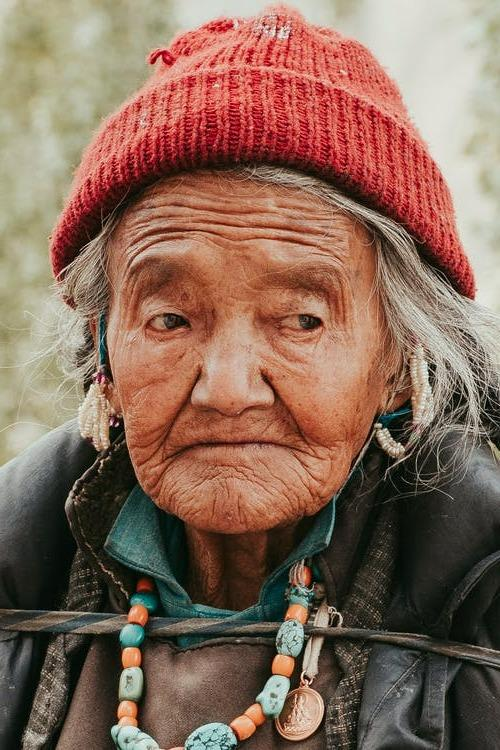Wrinkles: (128, 228, 342, 261), (175, 220, 336, 238), (124, 236, 188, 277), (138, 203, 276, 214), (332, 260, 355, 299), (138, 436, 167, 466), (150, 459, 174, 491), (291, 468, 314, 499), (165, 193, 234, 203), (130, 216, 192, 226), (131, 432, 164, 450), (296, 457, 321, 480), (337, 272, 344, 322), (199, 234, 222, 247), (279, 206, 314, 212), (128, 385, 148, 394), (290, 218, 337, 220)
